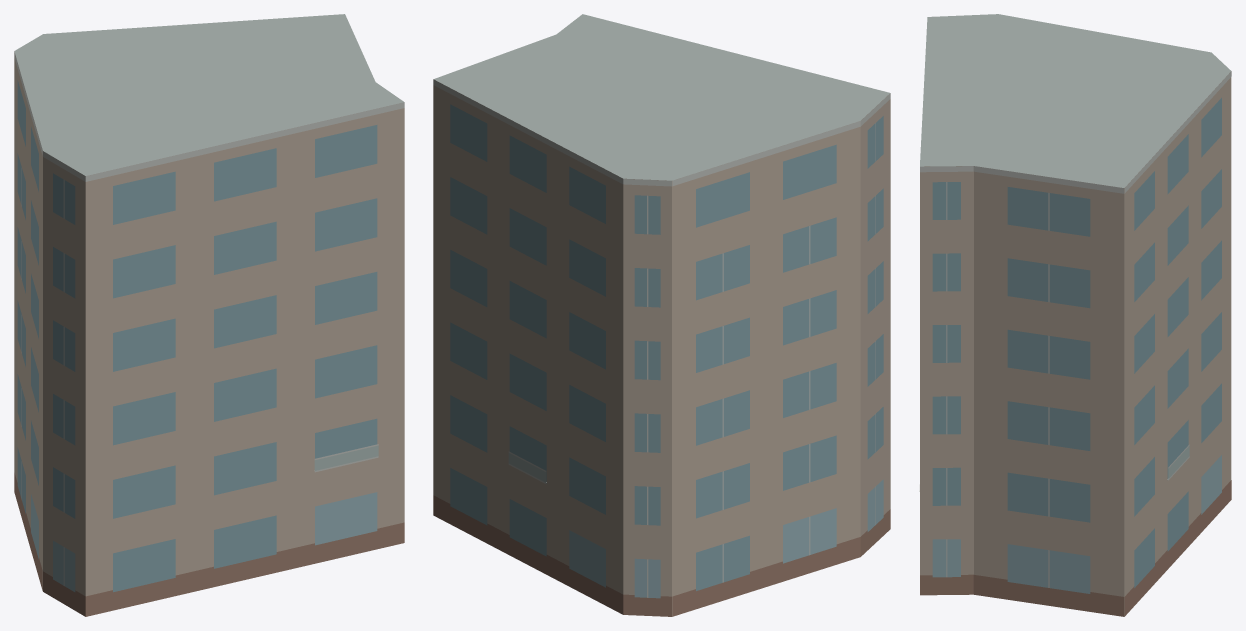
The model's file is survey-upis-32877049.glb.
The picture shows the model from 3 angles, left to right: view 1: azimuth 30°, elevation 25°; view 2: azimuth 150°, elevation 25°; view 3: azimuth 270°, elevation 25°; orthographic projection. The views are drawn at different scales.
Visible parts, largest first — view 1: survey-upis-32877049.tmp; view 2: survey-upis-32877049.tmp; view 3: survey-upis-32877049.tmp.
Part boxes in pixels (x1,y1,x2,y2): survey-upis-32877049.tmp: (14, 14, 404, 616); survey-upis-32877049.tmp: (433, 14, 890, 616); survey-upis-32877049.tmp: (919, 14, 1231, 616).
Size of the model in its own units: 15.95 by 18.3 by 12.07.
